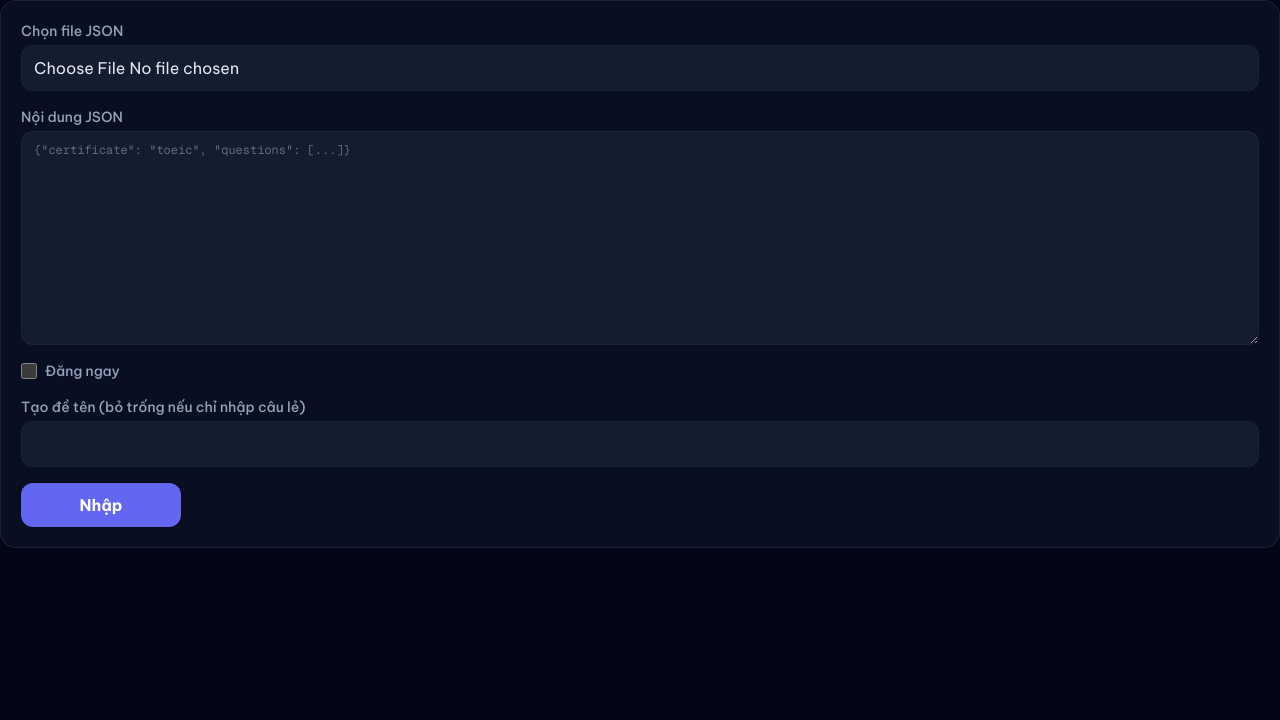
Test: ImportForm › đề vừa tạo còn nháp thì báo chữ thay vì link 404
The image size is (1280, 720).
Click the button "Nhập".
click(101, 505)  # box x1=21 y1=483 x2=181 y2=527
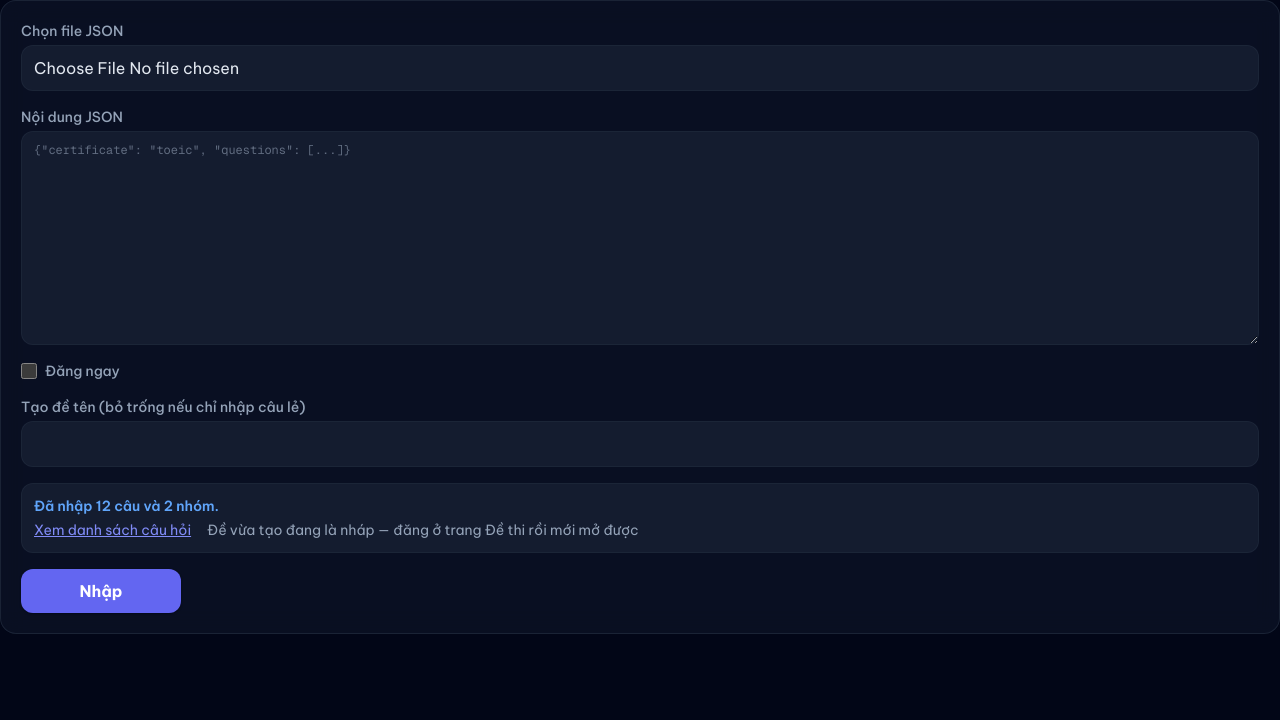
Result: the text "Đề vừa tạo đang là nháp — đăng ở trang Đề thi rồi mới mở được" is shown at x1=207 y1=520 x2=639 y2=540
